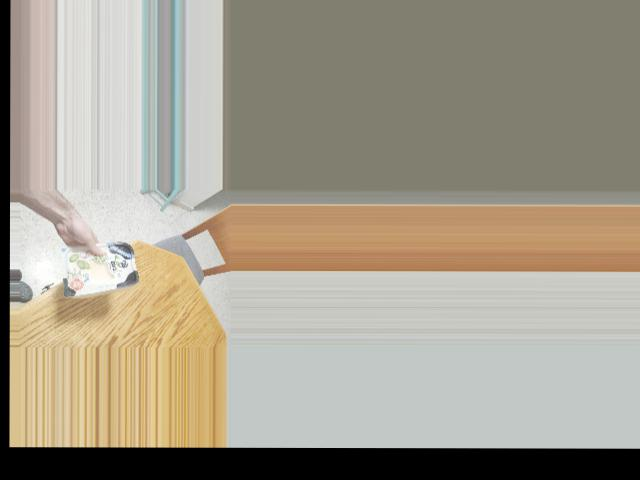cheese: (71, 241, 140, 293)
